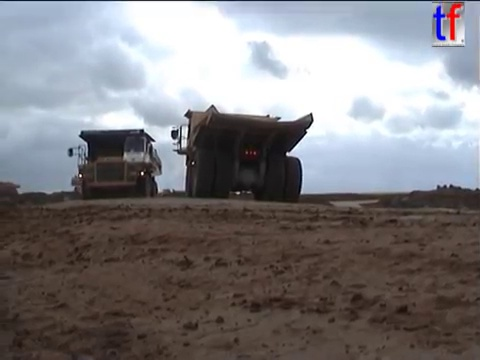excavator: (70, 147, 111, 200)
truck: (168, 102, 317, 205), (65, 126, 164, 202)
